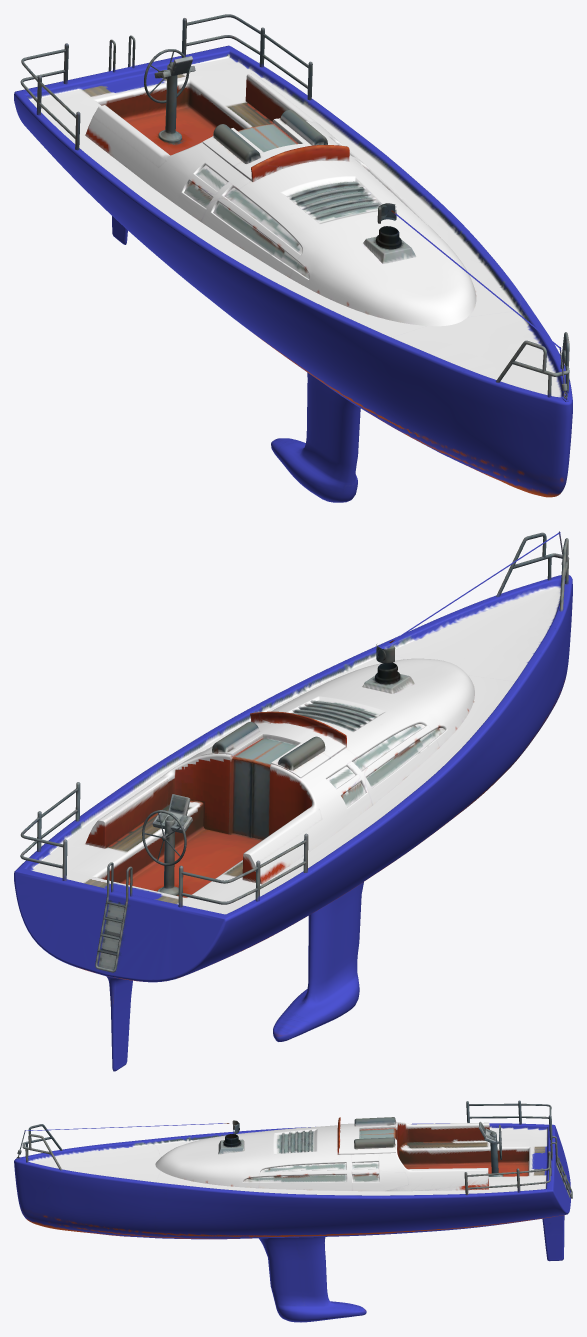
The model's file is boatphy.glb.
The picture shows the model from 3 angles, top to bottom: view 1: azimuth 30°, elevation 25°; view 2: azimuth 150°, elevation 25°; view 3: azimuth 270°, elevation 25°; orthographic projection. The views are drawn at different scales.
Visible parts, largest first — view 1: root_Material_77_0; view 2: root_Material_77_0; view 3: root_Material_77_0.
Part boxes in pixels (x1,y1,x2,y2): root_Material_77_0: [14, 14, 572, 502]; root_Material_77_0: [14, 531, 572, 1071]; root_Material_77_0: [14, 1100, 572, 1322].
Bounding box in the file's own units: 3.35 × 4.37 × 11.21.
Materials: 1 (1 with a texture image).
